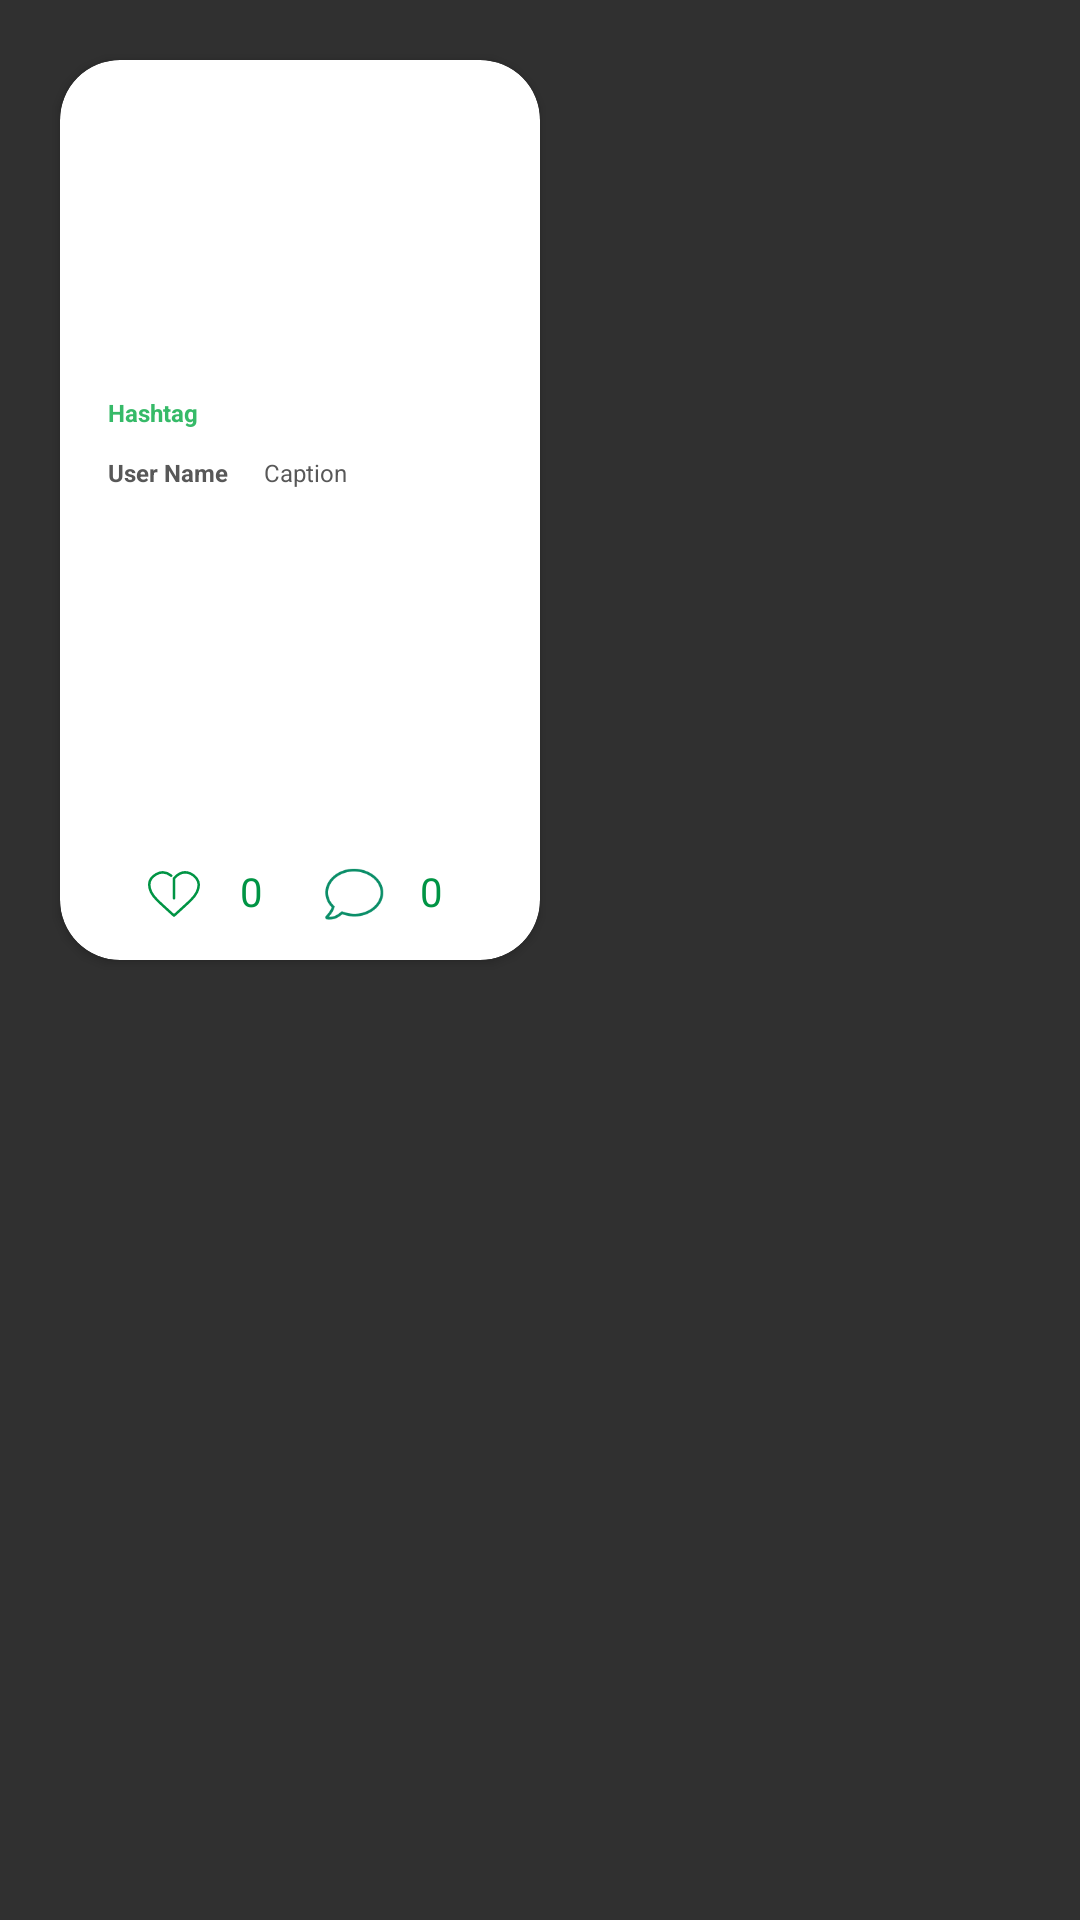

Icon click points for this 1080x1920 phone screenshot, format [x,y]:
comment: [354,894]
like empty: [174,894]
